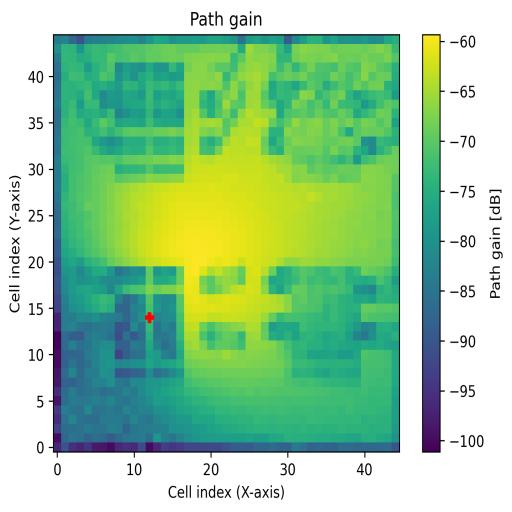Concrete: (293, 62, 362, 180)
Glass: (115, 62, 184, 183)
Metal: (292, 267, 362, 377)
Wood: (114, 266, 184, 378)
